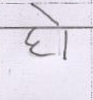o_matra: (36, 4, 82, 58)
